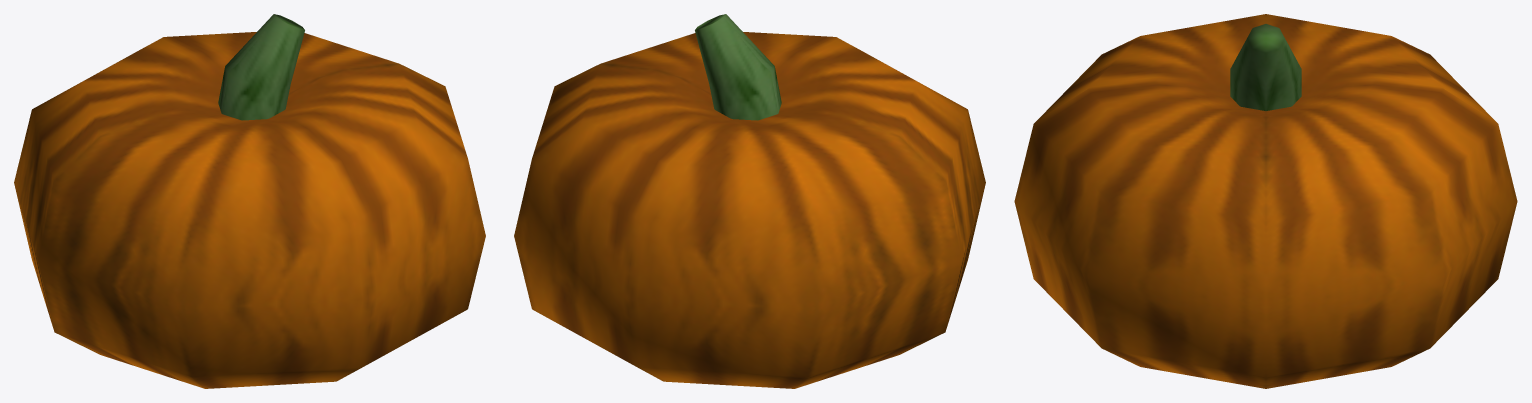
Rendered from Pumpkin1_Geo.fbx.
3 renders of one model, left to right at view 1: azimuth 30°, elevation 25°; view 2: azimuth 150°, elevation 25°; view 3: azimuth 270°, elevation 25°, orthographic. The views are drawn at different scales.
Parts seen in each view (by area): view 1: Pumpkin_Geo; view 2: Pumpkin_Geo; view 3: Pumpkin_Geo.
Boxes of the visible parts, left/top/right/bottom form: Pumpkin_Geo: left=14, top=14, right=485, bottom=388; Pumpkin_Geo: left=514, top=14, right=985, bottom=388; Pumpkin_Geo: left=1014, top=14, right=1517, bottom=388.
Size of the model in its own units: 51.24 by 34.94 by 51.24.
